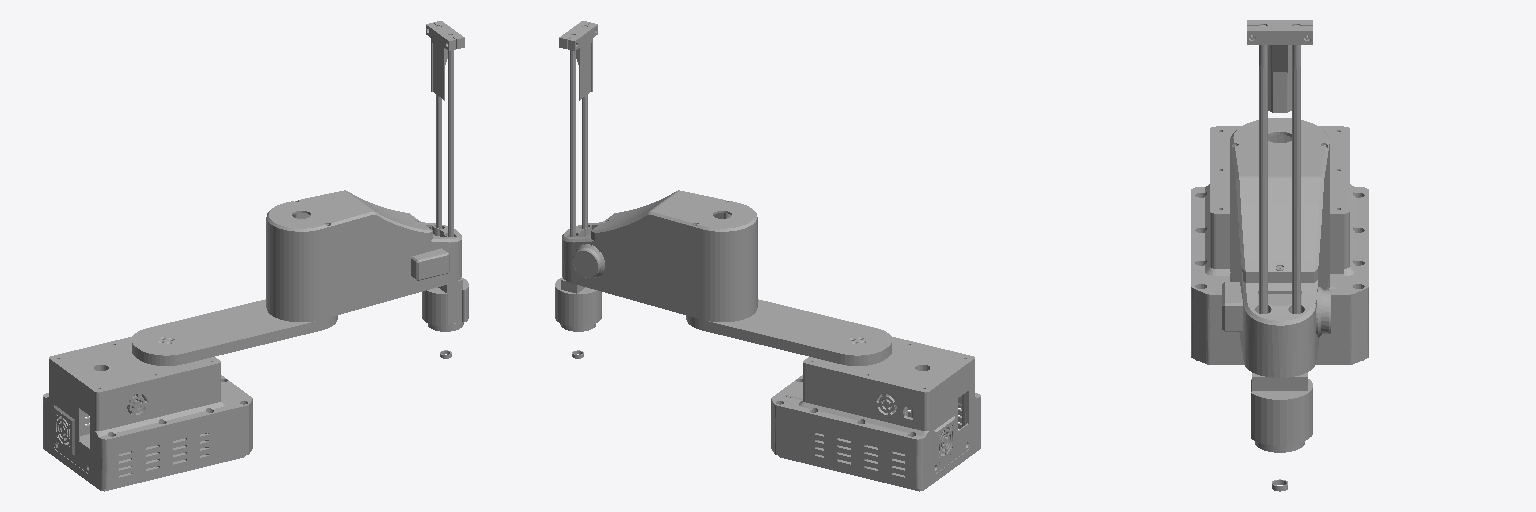
The robot description file, URDF, robot "scara_arm_vacuum_gripper":
<?xml version="1.0" ?>
<!-- =================================================================================== -->
<!-- |    This document was autogenerated by xacro from [local-path]/Desktop/rigbetel-labs-ws/src/scara_arm/scara_arm_description/urdf/scara_arm_vacuum_gripper.xacro | -->
<!-- |    EDITING THIS FILE BY HAND IS NOT RECOMMENDED                                 | -->
<!-- =================================================================================== -->
<robot name="scara_arm_vacuum_gripper">
    <material name="silver">
        <color rgba="0.700 0.700 0.700 1.000" />
    </material>
    <transmission name="link_01_joint_tran">
        <type>transmission_interface/SimpleTransmission</type>
        <joint name="link_01_joint">
            <hardwareInterface>hardware_interface/PositionJointInterface</hardwareInterface>
        </joint>
        <actuator name="link_01_joint_actr">
            <hardwareInterface>hardware_interface/PositionJointInterface</hardwareInterface>
            <mechanicalReduction>1</mechanicalReduction>
        </actuator>
    </transmission>
    <transmission name="link_02_joint_tran">
        <type>transmission_interface/SimpleTransmission</type>
        <joint name="link_02_joint">
            <hardwareInterface>hardware_interface/PositionJointInterface</hardwareInterface>
        </joint>
        <actuator name="link_02_joint_actr">
            <hardwareInterface>hardware_interface/PositionJointInterface</hardwareInterface>
            <mechanicalReduction>1</mechanicalReduction>
        </actuator>
    </transmission>
    <transmission name="link_03_joint_tran">
        <type>transmission_interface/SimpleTransmission</type>
        <joint name="link_03_joint">
            <hardwareInterface>hardware_interface/PositionJointInterface</hardwareInterface>
        </joint>
        <actuator name="link_03_joint_actr">
            <hardwareInterface>hardware_interface/PositionJointInterface</hardwareInterface>
            <mechanicalReduction>1</mechanicalReduction>
        </actuator>
    </transmission>
    <transmission name="link_04_joint_tran">
        <type>transmission_interface/SimpleTransmission</type>
        <joint name="link_04_joint">
            <hardwareInterface>hardware_interface/PositionJointInterface</hardwareInterface>
        </joint>
        <actuator name="link_04_joint_actr">
            <hardwareInterface>hardware_interface/PositionJointInterface</hardwareInterface>
            <mechanicalReduction>1</mechanicalReduction>
        </actuator>
    </transmission>
    <gazebo>
        <plugin filename="libgazebo_ros_control.so" name="control" />
        <plugin name="gazebo_ros_control">
            <robotNamespace>/</robotNamespace>
        </plugin>
    </gazebo>
    <gazebo reference="base_link">
        <material>Gazebo/Silver</material>
        <mu1>0.2</mu1>
        <mu2>0.2</mu2>
        <selfCollide>true</selfCollide>
        <gravity>true</gravity>
    </gazebo>
    <gazebo reference="link_01_1">
        <material>Gazebo/Silver</material>
        <mu1>0.2</mu1>
        <mu2>0.2</mu2>
        <selfCollide>true</selfCollide>
    </gazebo>
    <gazebo reference="link_02_1">
        <material>Gazebo/Silver</material>
        <mu1>0.2</mu1>
        <mu2>0.2</mu2>
        <selfCollide>true</selfCollide>
    </gazebo>
    <gazebo reference="link_03_1">
        <material>Gazebo/Silver</material>
        <mu1>0.2</mu1>
        <mu2>0.2</mu2>
        <selfCollide>true</selfCollide>
    </gazebo>
    <gazebo reference="link_04_1">
        <material>Gazebo/Silver</material>
        <mu1>0.2</mu1>
        <mu2>0.2</mu2>
        <selfCollide>true</selfCollide>
    </gazebo>
    <link name="world" />
    <joint name="world_joint" type="fixed">
        <origin rpy="0 0 0" xyz="0 0 0.25" />
        <parent link="world" />
        <child link="base_link" />
    </joint>
    <link name="base_link">
        <inertial>
            <origin rpy="0 0 0" xyz="-0.11835854812758473 -0.000276888564792295 0.07546314461319549" />
            <mass value="9.76941358714018" />
            <inertia ixx="0.040462" ixy="0.000229" ixz="0.003341" iyy="0.058748" iyz="3e-06" izz="0.065063" />
        </inertial>
        <visual>
            <origin rpy="0 0 0" xyz="0 0 0" />
            <geometry>
                <mesh filename="package://scara_arm_description/meshes/base_link.stl" scale="0.001 0.001 0.001" />
            </geometry>
            <material name="silver" />
        </visual>
        <collision>
            <origin rpy="0 0 0" xyz="0 0 0" />
            <geometry>
                <mesh filename="package://scara_arm_description/meshes/base_link.stl" scale="0.001 0.001 0.001" />
            </geometry>
        </collision>
    </link>
    <link name="link_01_1">
        <inertial>
            <origin rpy="0 0 0" xyz="0.08670878750712241 1.200325802990558e-08 0.006656155794027313" />
            <mass value="1.9187641006386469" />
            <inertia ixx="0.001419" ixy="0.0" ixz="-0.000439" iyy="0.016505" iyz="0.0" izz="0.017605" />
        </inertial>
        <visual>
            <origin rpy="0 0 0" xyz="0.089 -0.0 -0.134" />
            <geometry>
                <mesh filename="package://scara_arm_description/meshes/link_01_1.stl" scale="0.001 0.001 0.001" />
            </geometry>
            <material name="silver" />
        </visual>
        <collision>
            <origin rpy="0 0 0" xyz="0.089 -0.0 -0.134" />
            <geometry>
                <mesh filename="package://scara_arm_description/meshes/link_01_1.stl" scale="0.001 0.001 0.001" />
            </geometry>
        </collision>
    </link>
    <link name="link_02_1">
        <inertial>
            <origin rpy="0 0 0" xyz="0.08442650829809627 -0.00019960790751640374 0.04670690112194936" />
            <mass value="4.429642089527778" />
            <inertia ixx="0.010022" ixy="0.000108" ixz="0.003844" iyy="0.037429" iyz="-1.5e-05" izz="0.034386" />
        </inertial>
        <visual>
            <origin rpy="0 0 0" xyz="-0.109 -0.0 -0.150161" />
            <geometry>
                <mesh filename="package://scara_arm_description/meshes/link_02_1.stl" scale="0.001 0.001 0.001" />
            </geometry>
            <material name="silver" />
        </visual>
        <collision>
            <origin rpy="0 0 0" xyz="-0.109 -0.0 -0.150161" />
            <geometry>
                <mesh filename="package://scara_arm_description/meshes/link_02_1.stl" scale="0.001 0.001 0.001" />
            </geometry>
        </collision>
    </link>
    <link name="link_03_1">
        <inertial>
            <origin rpy="0 0 0" xyz="7.948171955463046e-05 0.015947235193624242 0.007476972757145983" />
            <mass value="1.573240852398478" />
            <inertia ixx="0.031125" ixy="-1e-06" ixz="0.000175" iyy="0.031053" iyz="0.000143" izz="0.000561" />
        </inertial>
        <visual>
            <origin rpy="0 0 0" xyz="-0.321 0.014923 -0.190844" />
            <geometry>
                <mesh filename="package://scara_arm_description/meshes/link_03_1.stl" scale="0.001 0.001 0.001" />
            </geometry>
            <material name="silver" />
        </visual>
        <collision>
            <origin rpy="0 0 0" xyz="-0.321 0.014923 -0.190844" />
            <geometry>
                <mesh filename="package://scara_arm_description/meshes/link_03_1.stl" scale="0.001 0.001 0.001" />
            </geometry>
        </collision>
    </link>
    <link name="link_04_1">
        <inertial>
            <origin rpy="0 0 0" xyz="-6.87288058324742e-05 -3.7241785767553145e-11 -0.004999674402307544" />
            <mass value="0.1300483969226679" />
            <inertia ixx="1.8e-05" ixy="0.0" ixz="0.0" iyy="1.8e-05" iyz="0.0" izz="3.4e-05" />
        </inertial>
        <visual>
            <origin rpy="0 0 0" xyz="-0.3217 0.0 -0.087161" />
            <geometry>
                <mesh filename="package://scara_arm_description/meshes/link_04_1.stl" scale="0.001 0.001 0.001" />
            </geometry>
            <material name="silver" />
        </visual>
        <collision>
            <origin rpy="0 0 0" xyz="-0.3217 0.0 -0.087161" />
            <geometry>
                <mesh filename="package://scara_arm_description/meshes/link_04_1.stl" scale="0.001 0.001 0.001" />
            </geometry>
        </collision>
    </link>
    <joint name="link_01_joint" type="revolute">
        <origin rpy="0 0 0" xyz="-0.089 0.0 0.134" />
        <parent link="base_link" />
        <child link="link_01_1" />
        <axis xyz="0.0 -0.0 1.0" />
        <limit effort="100" lower="-1.43117" upper="1.71042" velocity="100" />
    </joint>
    <joint name="link_02_joint" type="revolute">
        <origin rpy="0 0 0" xyz="0.198 0.0 0.016161" />
        <parent link="link_01_1" />
        <child link="link_02_1" />
        <axis xyz="0.0 0.0 1.0" />
        <limit effort="100" lower="-1.71042" upper="1.43117" velocity="100" />
    </joint>
    <joint name="link_03_joint" type="prismatic">
        <origin rpy="0 0 0" xyz="0.212 -0.014923 0.040683" />
        <parent link="link_02_1" />
        <child link="link_03_1" />
        <axis xyz="0.0 0.0 1.0" />
        <limit effort="100" lower="-0.23" upper="0.0" velocity="100" />
    </joint>
    <joint name="link_04_joint" type="revolute">
        <origin rpy="0 0 0" xyz="0.0007 0.014923 -0.103683" />
        <parent link="link_03_1" />
        <child link="link_04_1" />
        <axis xyz="0.0 0.0 -1.0" />
        <limit effort="100" lower="-1.570796" upper="1.570796" velocity="100" />
    </joint>
    <transmission name="gripper_joint_tran">
        <type>transmission_interface/SimpleTransmission</type>
        <joint name="gripper_joint">
            <hardwareInterface>hardware_interface/EffortJointInterface</hardwareInterface>
        </joint>
        <actuator name="gripper_joint_actr">
            <hardwareInterface>hardware_interface/EffortJointInterface</hardwareInterface>
            <mechanicalReduction>1</mechanicalReduction>
        </actuator>
    </transmission>
    <gazebo>
        <plugin filename="libgazebo_ros_control.so" name="control" />
    </gazebo>
    <gazebo reference="gripper_base_link">
        <material>Gazebo/Silver</material>
        <mu1>0.2</mu1>
        <mu2>0.2</mu2>
        <selfCollide>true</selfCollide>
        <gravity>true</gravity>
    </gazebo>
    <gazebo reference="gripper_link_1">
        <material>Gazebo/Silver</material>
        <mu1>0.2</mu1>
        <mu2>0.2</mu2>
        <selfCollide>true</selfCollide>
    </gazebo>
    <link name="gripper_base_link">
        <inertial>
            <origin rpy="0 0 0" xyz="0.012152318878142441 0.00989984571459361 -0.05720243618145755" />
            <mass value="0.8034775156193473" />
            <inertia ixx="0.000793" ixy="9.2e-05" ixz="-6.1e-05" iyy="0.000806" iyz="9e-05" izz="0.000631" />
        </inertial>
        <visual>
            <origin rpy="0 0 0" xyz="0 0 0" />
            <geometry>
                <mesh filename="package://vacuum_gripper_description/meshes/gripper_base_link.stl" scale="0.001 0.001 0.001" />
            </geometry>
            <material name="silver" />
        </visual>
        <collision>
            <origin rpy="0 0 0" xyz="0 0 0" />
            <geometry>
                <mesh filename="package://vacuum_gripper_description/meshes/gripper_base_link.stl" scale="0.001 0.001 0.001" />
            </geometry>
        </collision>
    </link>
    <link name="gripper_link_1">
        <inertial>
            <origin rpy="0 0 0" xyz="2.943394468511826e-07 2.2149824879902726e-07 -0.0024999999999999675" />
            <mass value="0.002457048975733048" />
            <inertia ixx="0.0" ixy="-0.0" ixz="0.0" iyy="0.0" iyz="0.0" izz="0.0" />
        </inertial>
        <visual>
            <origin rpy="0 0 0" xyz="-0.000371 -2.9e-05 0.0505" />
            <geometry>
                <mesh filename="package://vacuum_gripper_description/meshes/gripper_link_1.stl" scale="0.001 0.001 0.001" />
            </geometry>
            <material name="silver" />
        </visual>
        <collision>
            <origin rpy="0 0 0" xyz="-0.000371 -2.9e-05 0.0505" />
            <geometry>
                <mesh filename="package://vacuum_gripper_description/meshes/gripper_link_1.stl" scale="0.001 0.001 0.001" />
            </geometry>
        </collision>
    </link>
    <joint name="gripper_joint" type="prismatic">
        <origin rpy="0 0 0" xyz="0.000371 2.9e-05 -0.0505" />
        <parent link="gripper_base_link" />
        <child link="gripper_link_1" />
        <axis xyz="-0.0 -0.0 -1.0" />
        <limit effort="100" lower="0.0" upper="0.02" velocity="100" />
    </joint>
    <joint name="gripper_attach" type="fixed">
        <origin rpy="0 0 0" xyz="0 0 0" />
        <parent link="link_04_1" />
        <child link="gripper_base_link" />
    </joint>
</robot>

--- Facts derived from the render (not from the file) ---
The picture shows the robot from 3 angles, left to right: view 1: azimuth 30°, elevation 25°; view 2: azimuth 150°, elevation 25°; view 3: azimuth 270°, elevation 25°; orthographic projection.
Robot: scara_arm_vacuum_gripper — 8 links, 7 joints (3 revolute, 2 prismatic, 2 fixed); root link world; default pose: every joint at zero.
Links seen in each view (by area): view 1: base_link, link_02_1, link_01_1, link_03_1; view 2: base_link, link_02_1, link_01_1, link_03_1; view 3: link_02_1, base_link, link_03_1.
Boxes of the visible links, <box> form: base_link: <box>43,336,252,491</box>; link_02_1: <box>266,190,461,321</box>; link_01_1: <box>132,299,337,365</box>; link_03_1: <box>422,21,468,326</box>; base_link: <box>771,336,980,491</box>; link_02_1: <box>562,190,757,321</box>; link_01_1: <box>686,299,891,365</box>; link_03_1: <box>555,21,601,326</box>; link_02_1: <box>1222,118,1330,377</box>; base_link: <box>1191,126,1368,364</box>; link_03_1: <box>1247,20,1312,445</box>.
Bounding box of the posed robot: 0.5839 × 0.16 × 0.4912 m (x, y, z).
Meshes: 7 distinct files referenced, 6 mesh visuals loaded (6 binary STL); not drawn: 1 (reference not matched to a file when rendering).